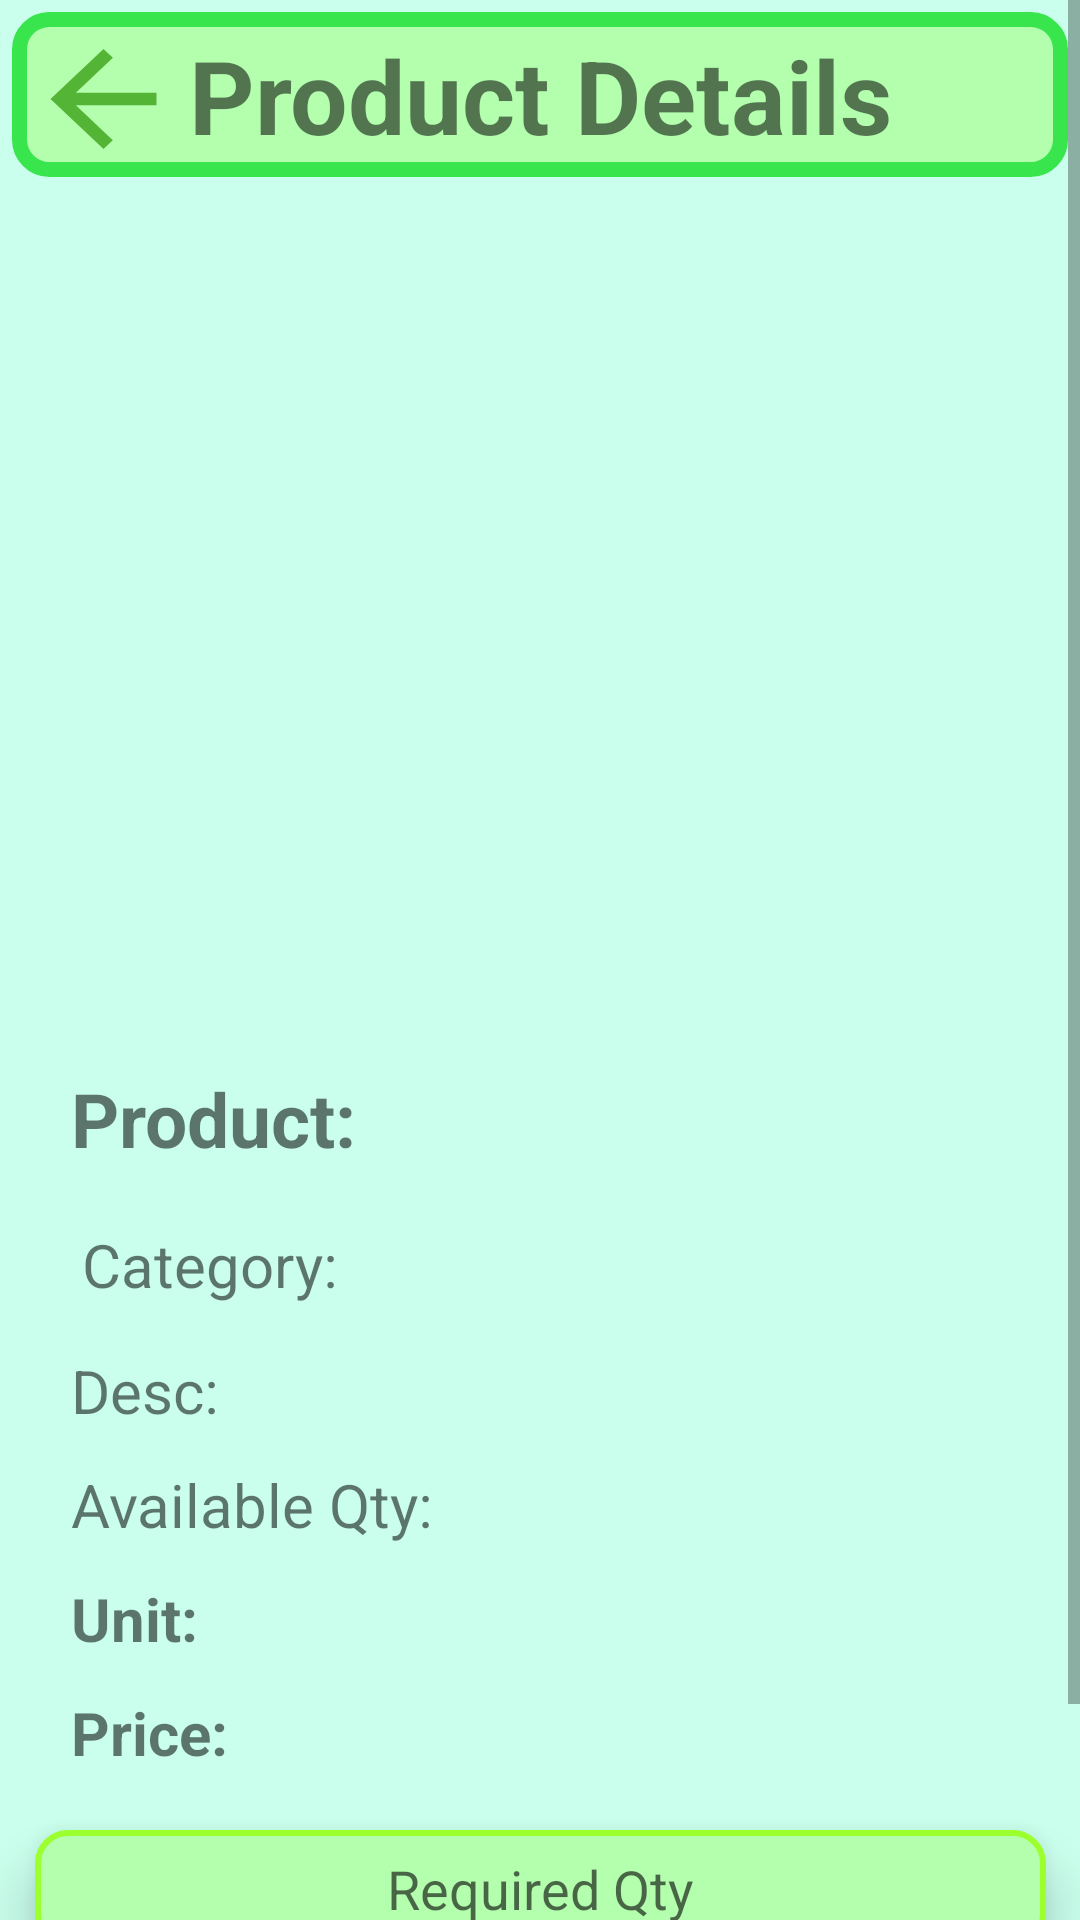

Point at icon controls on the screen. Image size 1080x1920, points as (x=x, y=y).
arrow back or: (x=103, y=100)
